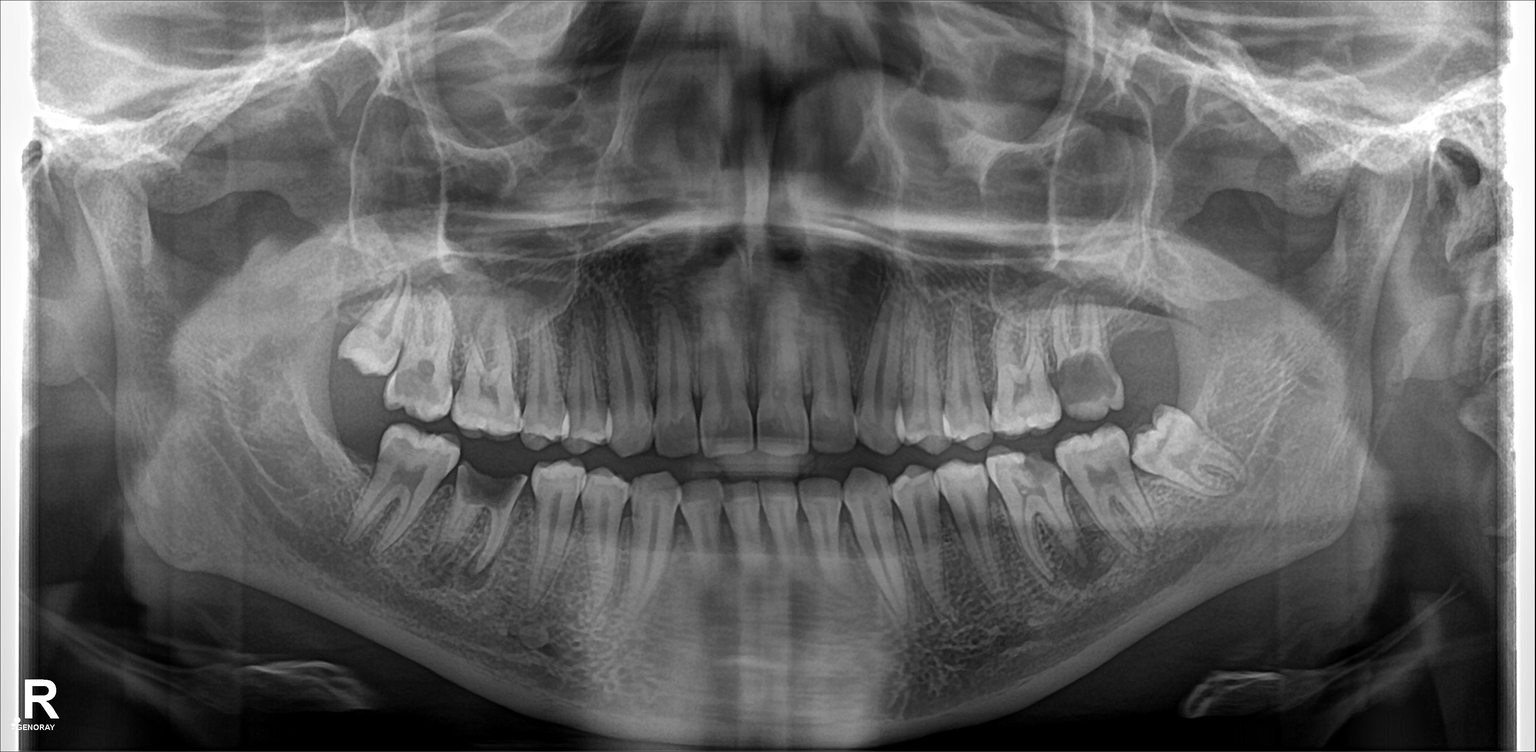Dental Caries: (1063, 354, 1116, 405), (389, 361, 441, 410), (458, 467, 520, 506), (1017, 456, 1061, 493)
Impacted Third Molar: (1123, 414, 1223, 484)
Missing Tooth: (1108, 298, 1181, 404), (313, 385, 372, 515)
